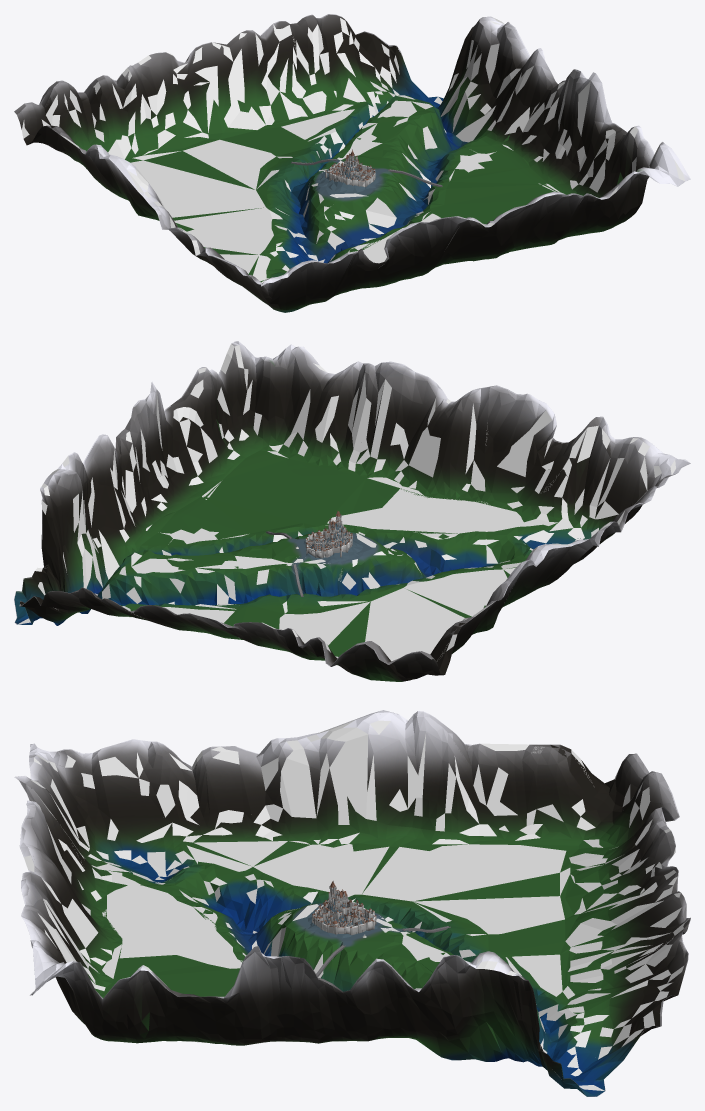
File: testScene.glb
The picture shows the model from 3 angles, top to bottom: view 1: azimuth 30°, elevation 25°; view 2: azimuth 150°, elevation 25°; view 3: azimuth 270°, elevation 25°; orthographic projection. The views are drawn at different scales.
Visible parts, largest first — view 1: Terrain, Trimesh.001, Castle; view 2: Terrain, Trimesh.001, Castle; view 3: Terrain, Trimesh.001, Castle.
Boxes of the visible parts, x1,y1,x2,y2 form: Terrain: [14, 14, 690, 312]; Trimesh.001: [21, 17, 685, 284]; Castle: [318, 149, 378, 192]; Terrain: [14, 341, 690, 681]; Trimesh.001: [17, 344, 675, 661]; Castle: [303, 511, 363, 563]; Terrain: [14, 710, 690, 1096]; Trimesh.001: [24, 720, 688, 1090]; Castle: [308, 880, 382, 938].
Size of what is drawn, in the model's own units: 1015 by 283 by 1112.
7 materials, 2 textured.
